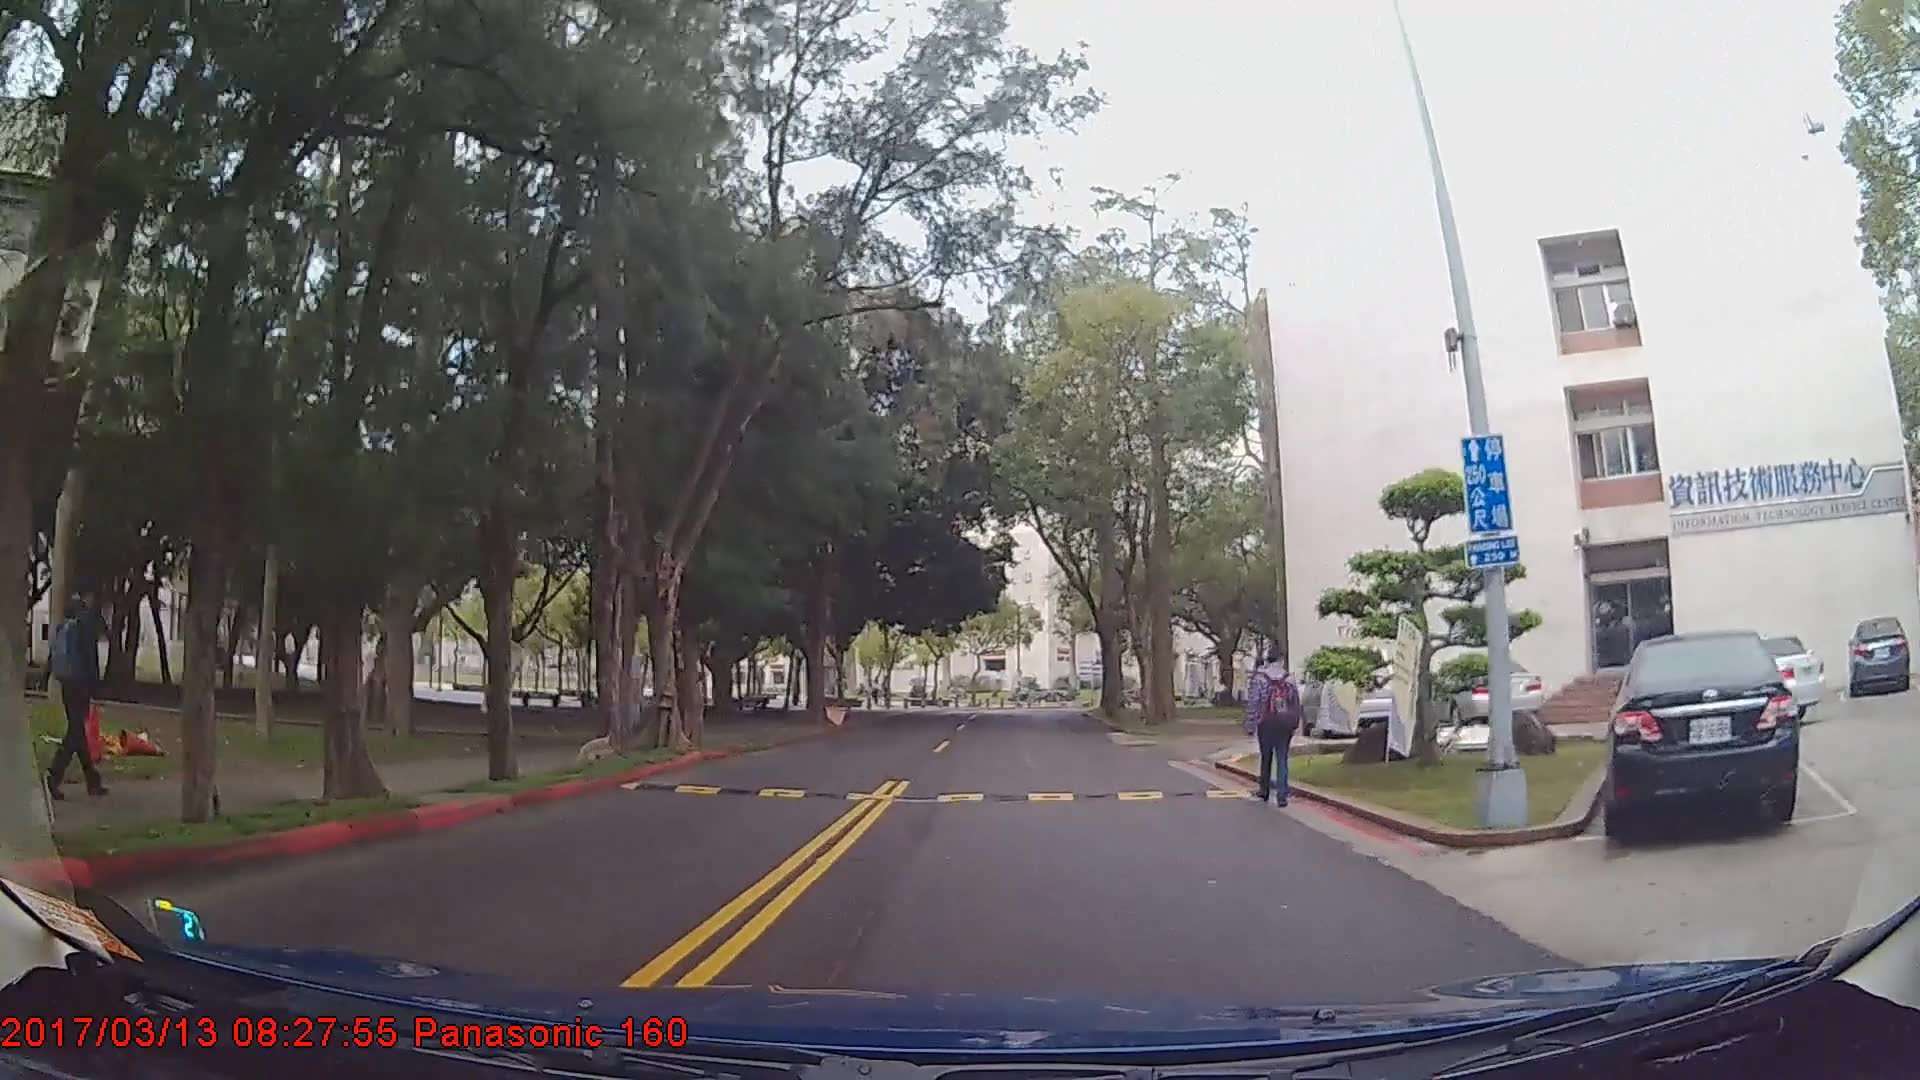pedestrian: (1244, 646, 1316, 813)
vehicle: (1600, 628, 1801, 841), (1844, 613, 1908, 695)
